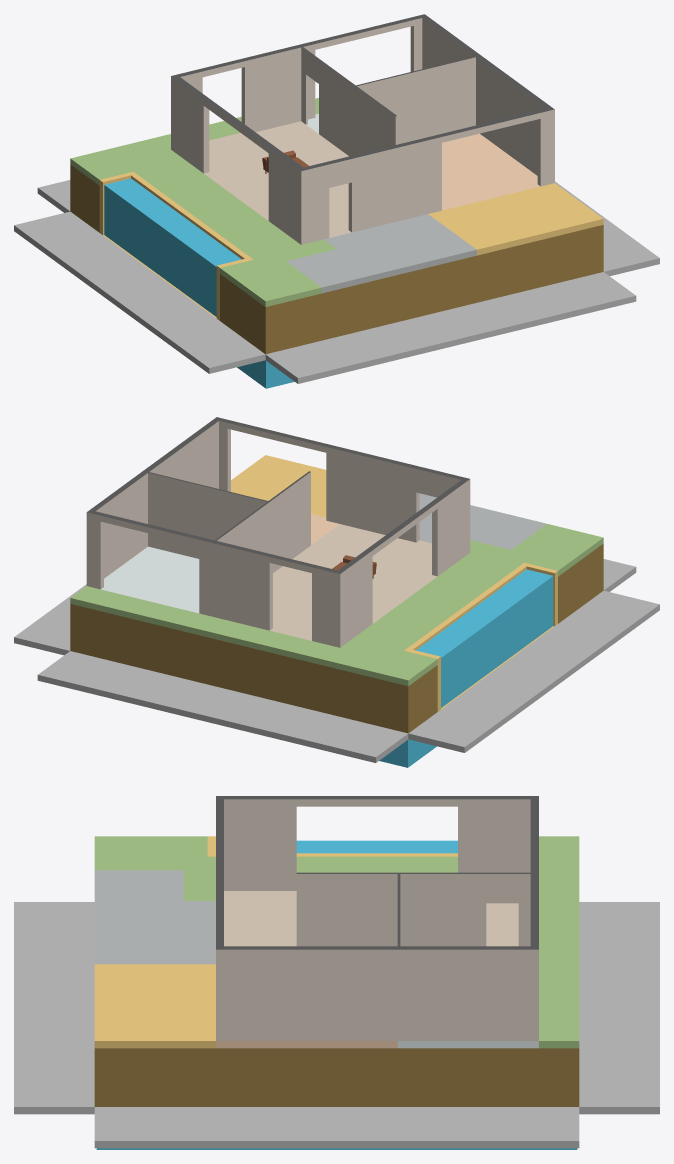
File: POC_Maquette.glb
3 views of the same model, one above another, from view 1: azimuth 30°, elevation 25°; view 2: azimuth 150°, elevation 25°; view 3: azimuth 270°, elevation 25° (orthographic). The views are drawn at different scales.
Visible parts, largest first — view 1: Terrain, Murs, Cloisons, Eau_exterieur; view 2: Terrain, Murs, Cloisons, Eau_exterieur; view 3: Terrain, Murs, Cloisons, Eau_exterieur, Eau_interieur.
Part boxes in pixels (x1,y1,x2,y2): Terrain: (14, 98, 659, 383); Murs: (171, 14, 554, 244); Cloisons: (301, 47, 475, 156); Eau_exterieur: (104, 178, 294, 388); Terrain: (14, 455, 659, 762); Murs: (86, 417, 470, 647); Cloisons: (148, 471, 310, 572); Eau_exterieur: (379, 569, 553, 767); Terrain: (14, 836, 659, 1148); Murs: (216, 796, 538, 1040); Cloisons: (296, 872, 530, 946); Eau_exterieur: (96, 840, 577, 1149); Eau_interieur: (220, 1148, 533, 1149).
Size of the model in its own units: 16 by 5.5 by 16.
